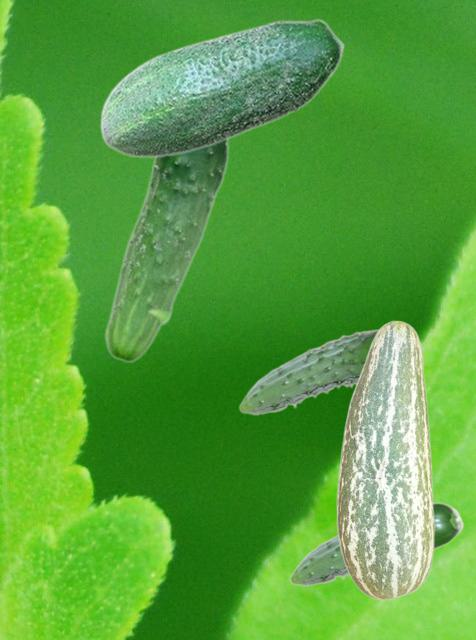cucumber: (99, 18, 344, 157), (104, 141, 229, 362), (336, 320, 434, 599), (238, 328, 421, 414), (289, 502, 463, 585)
